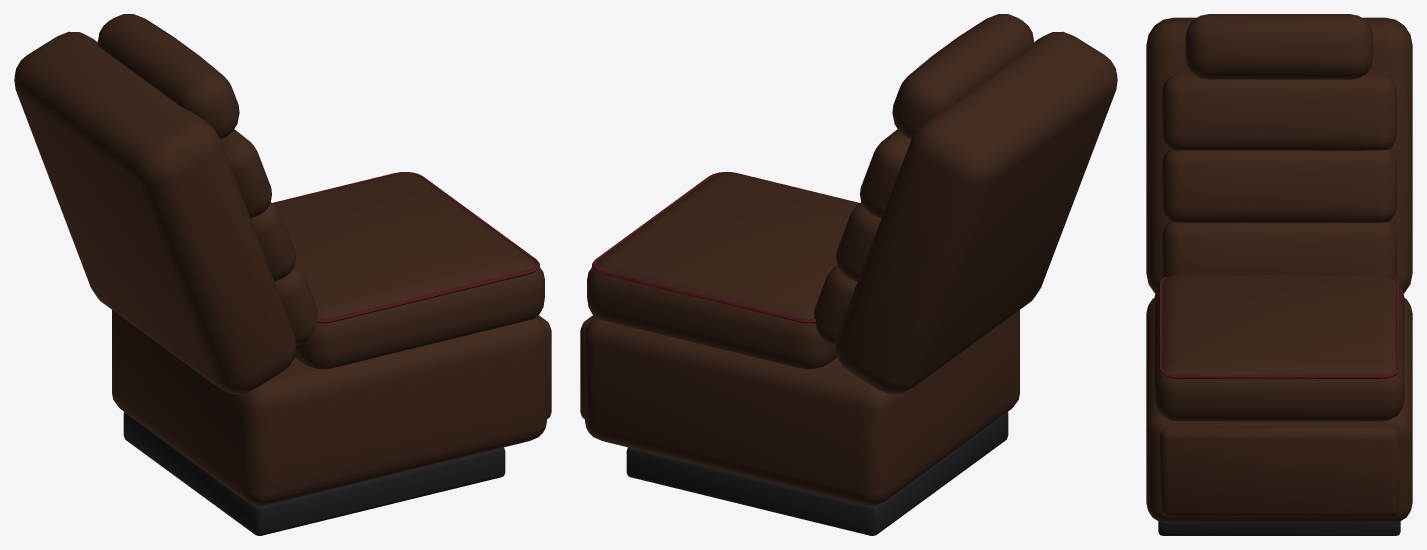
File: seat_club.glb
3 renders of one model, left to right at view 1: azimuth 30°, elevation 25°; view 2: azimuth 150°, elevation 25°; view 3: azimuth 270°, elevation 25°, orthographic. The views are drawn at different scales.
Parts seen in each view (by area): view 1: BackBody_LOD0, Base_LOD0, Cushion_LOD0, Plinth_LOD0, Headrest_LOD0, Roll2_LOD0, Roll1_LOD0, Roll0_LOD0, Welt_LOD0; view 2: BackBody_LOD0, Base_LOD0, Cushion_LOD0, Plinth_LOD0, Headrest_LOD0, Roll2_LOD0, Roll1_LOD0, Roll0_LOD0, Welt_LOD0; view 3: Cushion_LOD0, Footrest_LOD0, Roll2_LOD0, Roll1_LOD0, Roll0_LOD0, Headrest_LOD0, BackBody_LOD0, Base_LOD0, Plinth_LOD0, Welt_LOD0.
Part boxes in pixels (left/top/right/bottom): BackBody_LOD0: left=14, top=31, right=296, bottom=394; Base_LOD0: left=112, top=310, right=547, bottom=505; Cushion_LOD0: left=272, top=172, right=544, bottom=369; Plinth_LOD0: left=123, top=412, right=505, bottom=535; Headrest_LOD0: left=98, top=14, right=239, bottom=139; Roll2_LOD0: left=220, top=129, right=271, bottom=218; Roll1_LOD0: left=251, top=202, right=295, bottom=281; Roll0_LOD0: left=275, top=265, right=317, bottom=345; Welt_LOD0: left=273, top=172, right=539, bottom=323; BackBody_LOD0: left=835, top=31, right=1117, bottom=394; Base_LOD0: left=584, top=310, right=1019, bottom=505; Cushion_LOD0: left=587, top=172, right=859, bottom=369; Plinth_LOD0: left=626, top=412, right=1008, bottom=535; Headrest_LOD0: left=892, top=14, right=1033, bottom=139; Roll2_LOD0: left=860, top=129, right=910, bottom=218; Roll1_LOD0: left=836, top=202, right=880, bottom=281; Roll0_LOD0: left=814, top=265, right=856, bottom=345; Welt_LOD0: left=592, top=172, right=858, bottom=323; Cushion_LOD0: left=1154, top=275, right=1404, bottom=421; Footrest_LOD0: left=1160, top=427, right=1398, bottom=516; Roll2_LOD0: left=1162, top=73, right=1396, bottom=150; Roll1_LOD0: left=1162, top=149, right=1396, bottom=222; Roll0_LOD0: left=1162, top=221, right=1396, bottom=278; Headrest_LOD0: left=1185, top=14, right=1373, bottom=79; BackBody_LOD0: left=1146, top=17, right=1412, bottom=292; Base_LOD0: left=1146, top=298, right=1412, bottom=522; Plinth_LOD0: left=1158, top=521, right=1400, bottom=535; Welt_LOD0: left=1158, top=276, right=1400, bottom=378.
Size of what is drawn, in the model's own units: 1.09 by 1.13 by 0.68.
